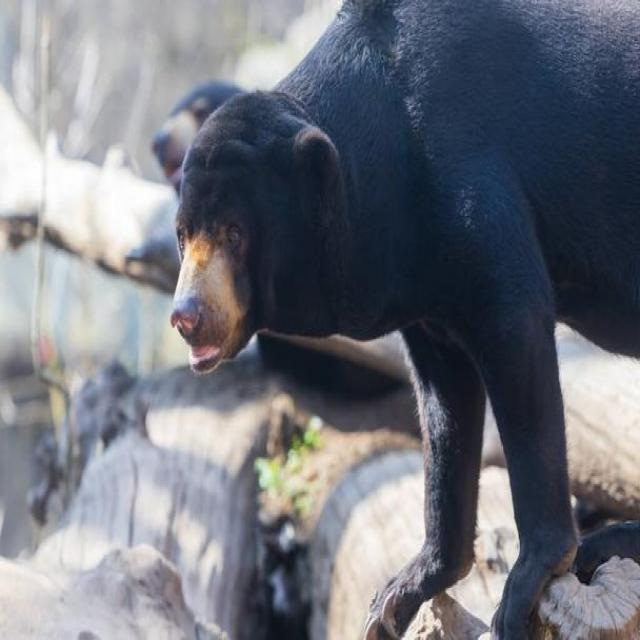Bear: (168, 0, 640, 640), (152, 82, 244, 183)
